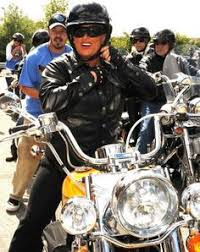helmet: (65, 1, 116, 60)
